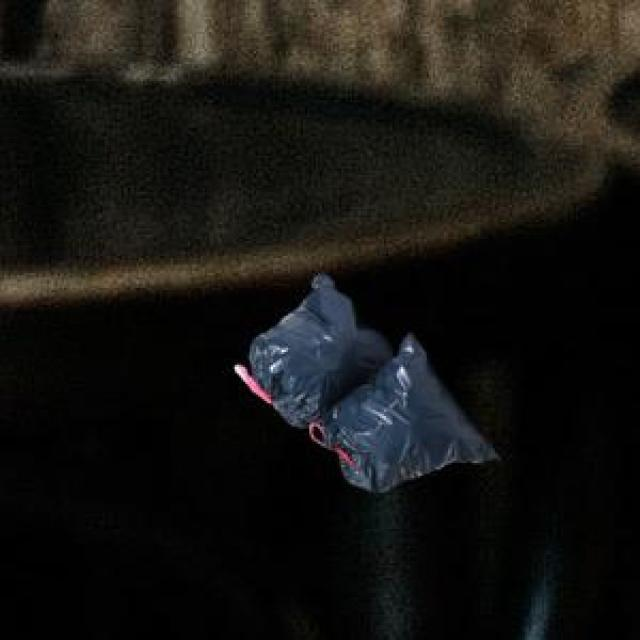Vinyl: (235, 274, 498, 492)
